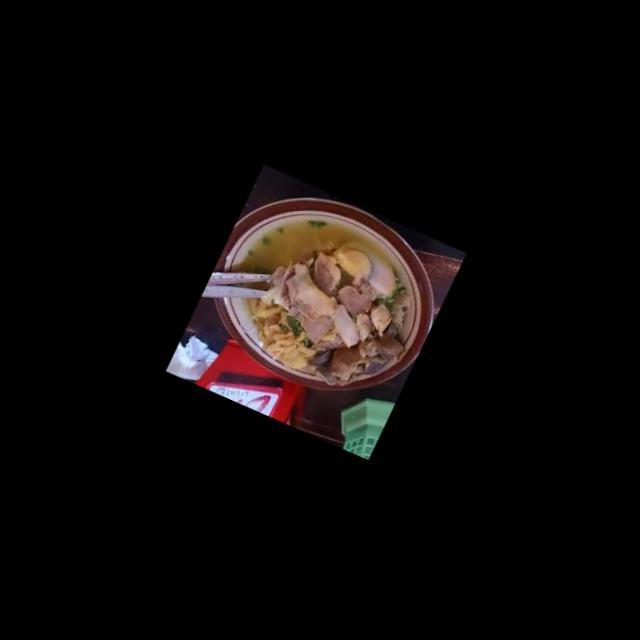Soto: (229, 206, 413, 374)
